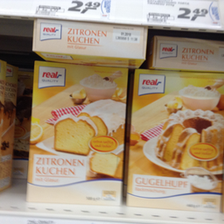cake: (25, 58, 129, 211), (128, 67, 224, 214)
